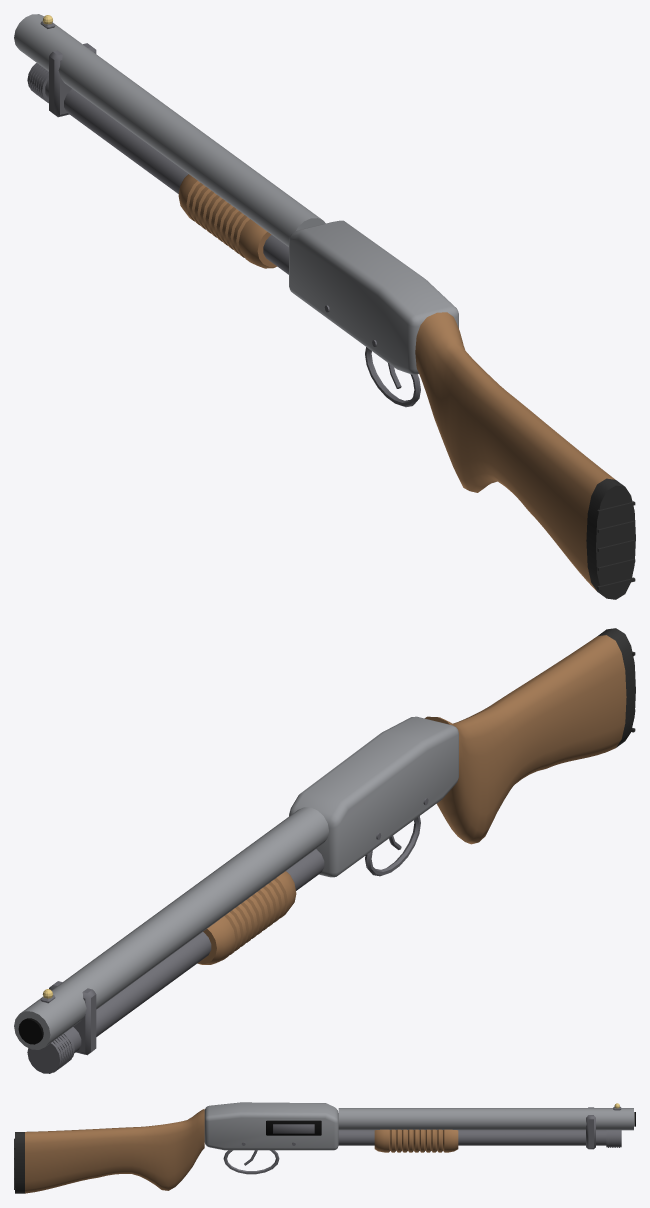
File: shotgun.glb
3 renders of one model, top to bottom at view 1: azimuth 30°, elevation 25°; view 2: azimuth 150°, elevation 25°; view 3: azimuth 270°, elevation 25°, orthographic. The views are drawn at different scales.
Visible parts, largest first — view 1: Body, BarrelFront, Pump; view 2: Body, BarrelFront, Pump; view 3: Body, BarrelFront, Pump.
Boxes of the visible parts, box(x1,y1,x2,y2) form: Body: box(135, 102, 635, 599); BarrelFront: box(14, 14, 164, 166); Pump: box(178, 174, 276, 268); Body: box(141, 628, 635, 987); BarrelFront: box(14, 922, 171, 1073); Pump: box(197, 871, 296, 964); Body: box(14, 1102, 505, 1193); BarrelFront: box(505, 1107, 635, 1149); Pump: box(374, 1129, 458, 1152).
Size of the model in its own units: 0.0604 by 0.177 by 1.12.
